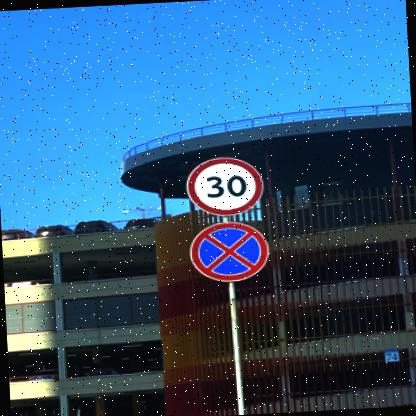speedlimit: (184, 153, 263, 216)
